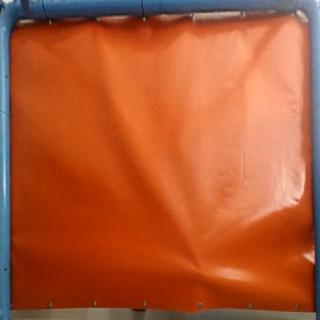Hit-hRxx: (193, 266, 208, 280)
